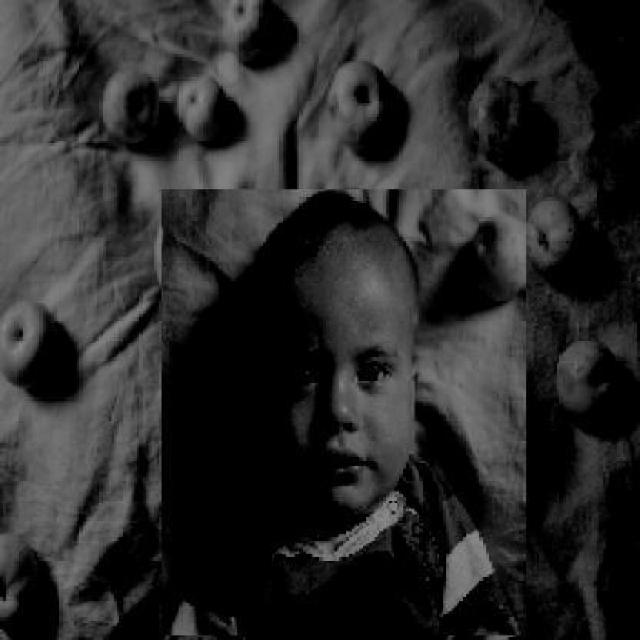child: (160, 189, 526, 637)
